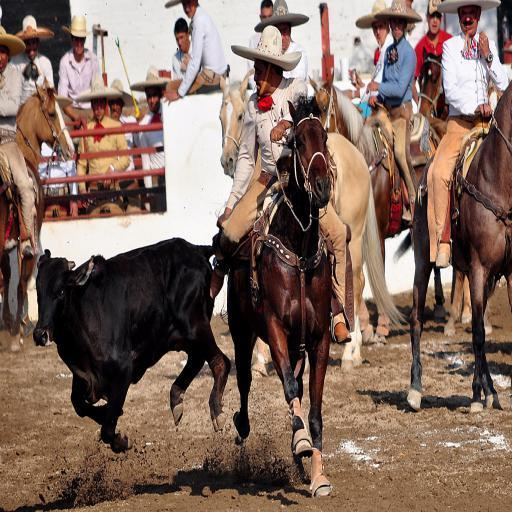horse: (219, 46, 512, 498), (0, 76, 74, 340)
